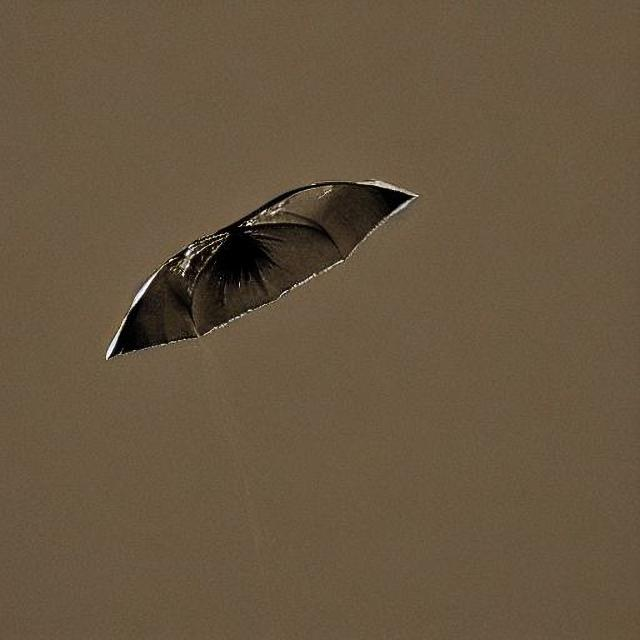floating object: (120, 178, 418, 349)
